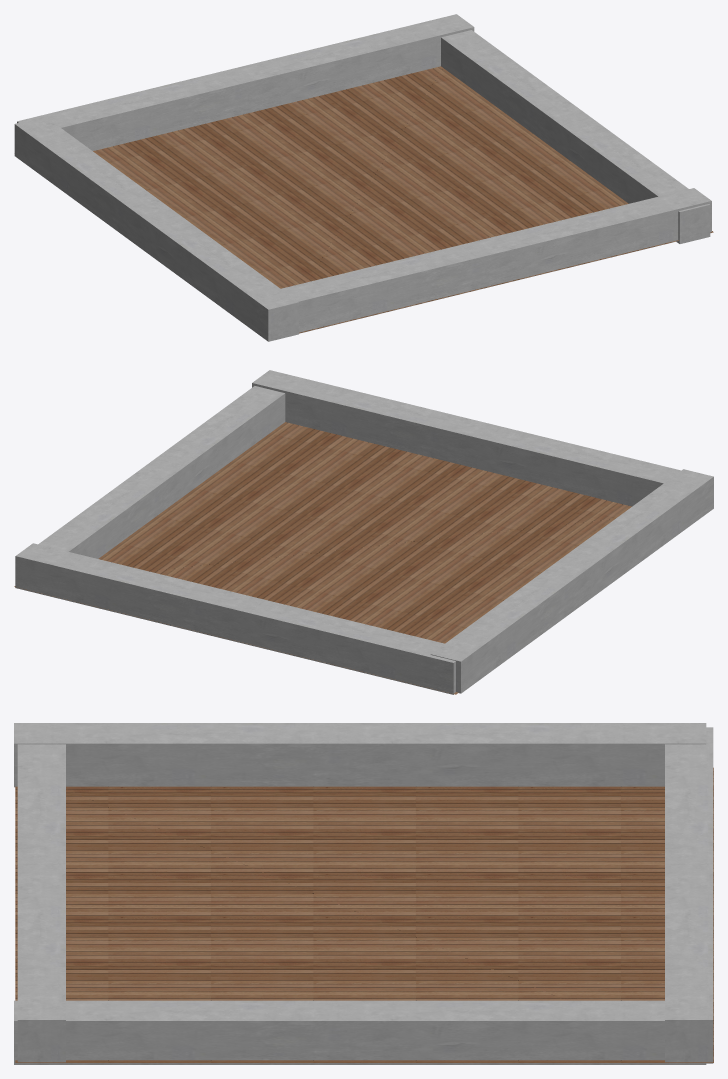
The picture shows the model from 3 angles, top to bottom: view 1: azimuth 30°, elevation 25°; view 2: azimuth 150°, elevation 25°; view 3: azimuth 270°, elevation 25°; orthographic projection. The views are drawn at different scales.
Parts seen in each view (by area): view 1: Plane, Cube.001, Cube, Cube.003, Cube.002; view 2: Plane, Cube, Cube.001, Cube.003, Cube.002; view 3: Plane, Cube.003, Cube.002, Cube, Cube.001.
Boxes of the visible parts, x1,y1,x2,y2 form: Plane: (93, 66, 713, 333); Cube.001: (281, 188, 711, 333); Cube: (17, 14, 474, 150); Cube.003: (14, 116, 298, 341); Cube.002: (441, 30, 710, 243); Plane: (14, 422, 631, 694); Cube: (15, 543, 455, 694); Cube.001: (252, 370, 680, 506); Cube.003: (430, 469, 713, 693); Cube.002: (38, 386, 285, 558); Plane: (15, 767, 713, 1062); Cube.003: (14, 723, 706, 787); Cube.002: (14, 1000, 706, 1064); Cube: (665, 727, 713, 1063); Cube.001: (17, 744, 65, 1063).
Size of the model in its own units: 29.07 by 2.17 by 28.98.
Materials: 5 (5 with a texture image).
